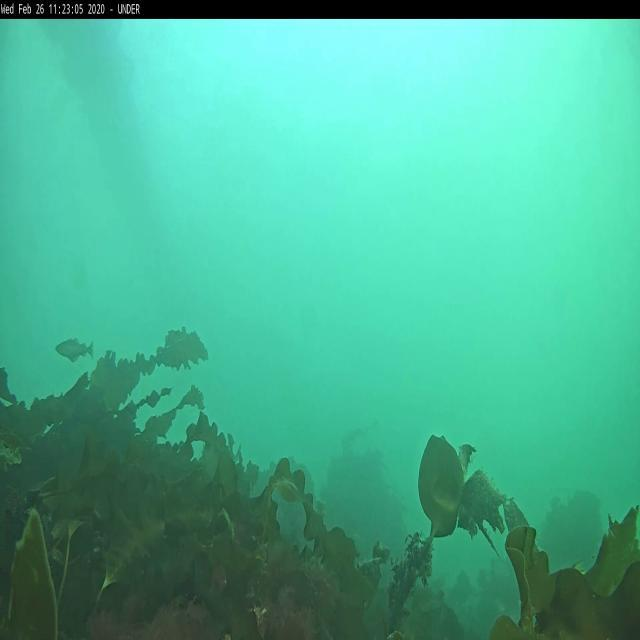fish: (56, 338, 94, 361)
